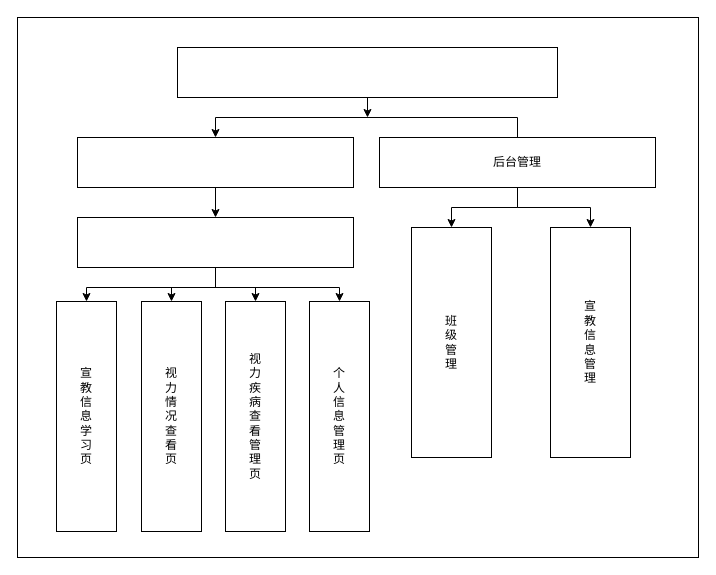
The diagram is 716 pixels wide and 575 high, and some of its shapes have lost their labels. Each missing label, with the centre of its shape:
登录注册页: the point at 215,162
系统主页: the point at 215,242
青少年Web视力管理系统: the point at 367,72
